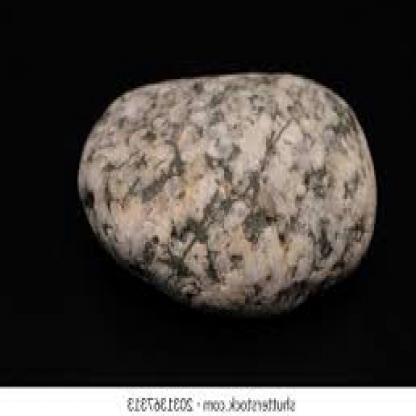Igneous_Diorite: (73, 63, 387, 310)
